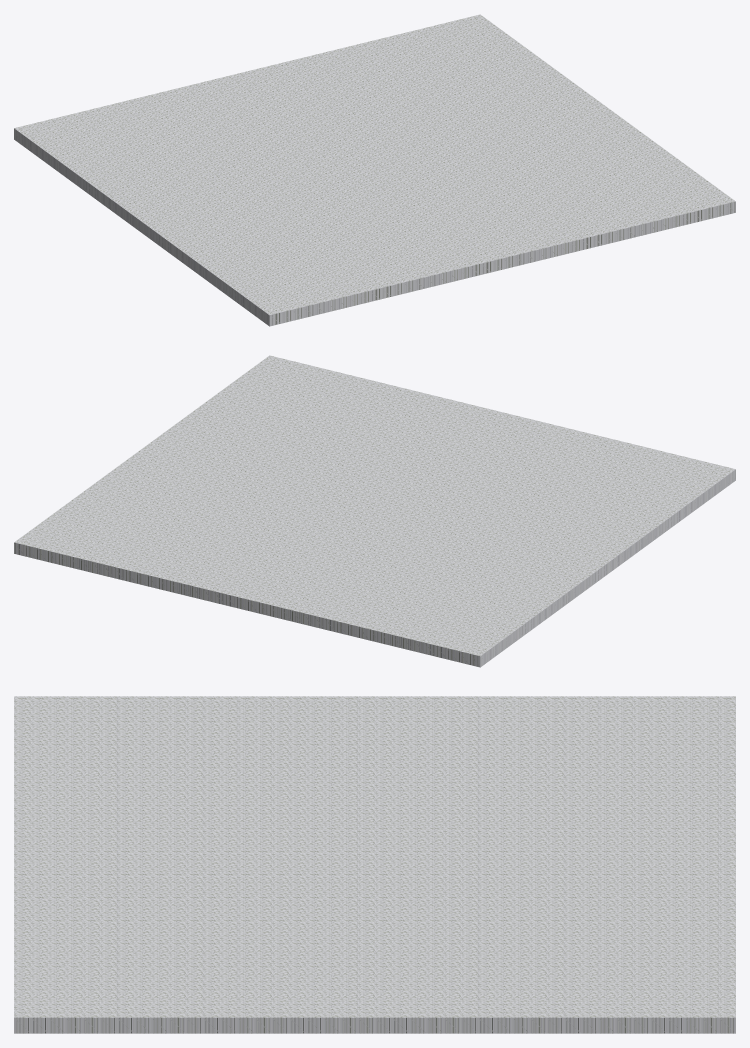
The model's file is SnowFloor.fbx.
The picture shows the model from 3 angles, top to bottom: view 1: azimuth 30°, elevation 25°; view 2: azimuth 150°, elevation 25°; view 3: azimuth 270°, elevation 25°; orthographic projection. The views are drawn at different scales.
Visible parts, largest first — view 1: Plane.001; view 2: Plane.001; view 3: Plane.001.
Part boxes in pixels (x1=…): Plane.001: x1=14, y1=14, x2=735, y2=326; Plane.001: x1=14, y1=355, x2=735, y2=667; Plane.001: x1=14, y1=696, x2=735, y2=1033.
Bounding box in the file's own units: 30037 × 694 × 28508.
